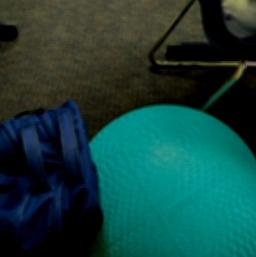algae: (74, 100, 256, 257)
